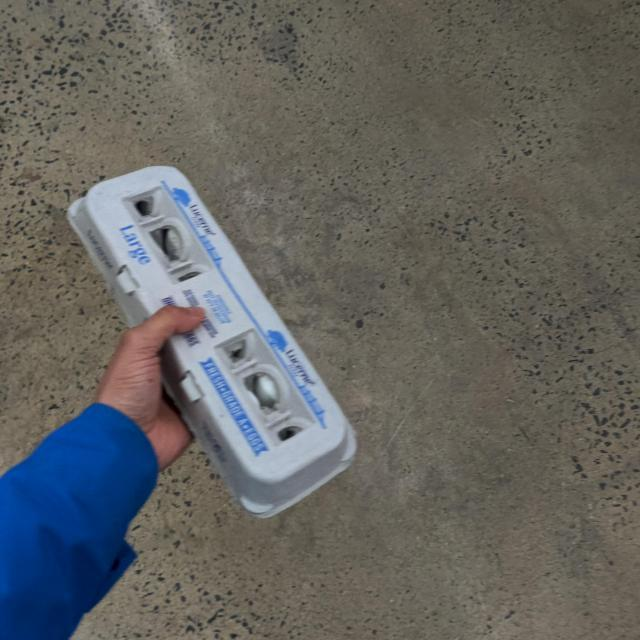egg: (70, 124, 368, 525)
